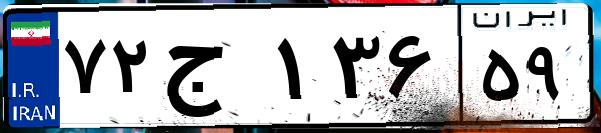1: (270, 28, 330, 110)
2: (110, 28, 158, 98)
3: (330, 28, 385, 110)
5: (475, 38, 525, 113)
6: (385, 28, 445, 110)
7: (57, 26, 110, 100)
9: (525, 38, 570, 115)
ج: (158, 20, 270, 120)
